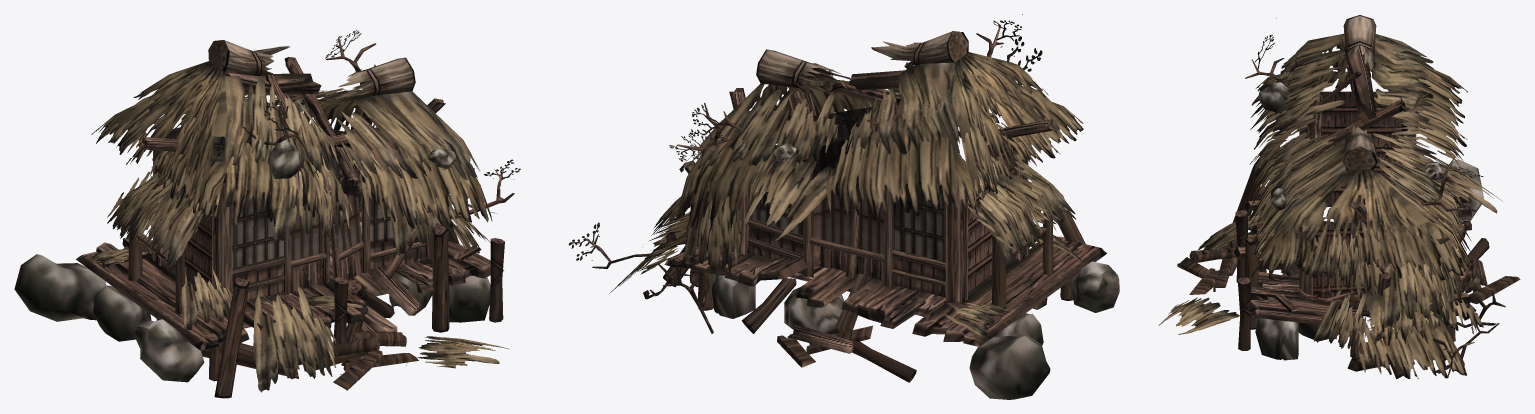
Rendered from PRP_HouseForestB.FBX.
3 views of the same model, side by side, from view 1: azimuth 30°, elevation 25°; view 2: azimuth 150°, elevation 25°; view 3: azimuth 270°, elevation 25° (orthographic). The views are drawn at different scales.
Visible parts, largest first — view 1: PRP_HouseForestB; view 2: PRP_HouseForestB; view 3: PRP_HouseForestB.
Boxes of the visible parts, x1=… form: PRP_HouseForestB: x1=14, y1=30, x2=520, y2=398; PRP_HouseForestB: x1=568, y1=14, x2=1119, y2=399; PRP_HouseForestB: x1=1158, y1=15, x2=1520, y2=379.
Size of the model in its own units: 1188 by 723 by 941.
